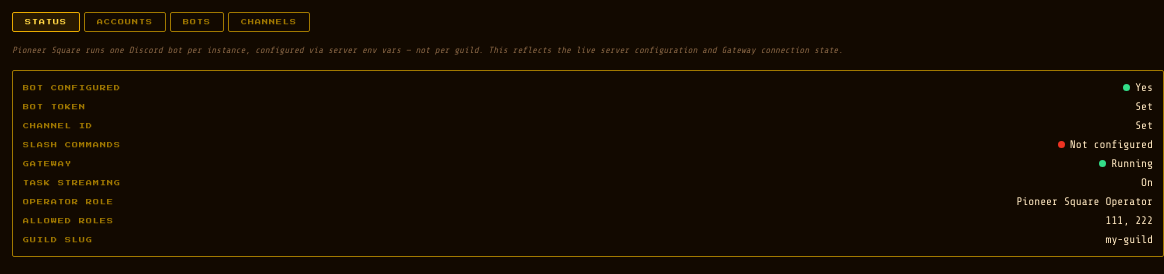
Scenario: GuildDiscordSettings › lists auto-provisioned bots read-only
Click the button with class "foreman-tool-tab" showing "Bots" at (197, 22), box [170,12,224,32]
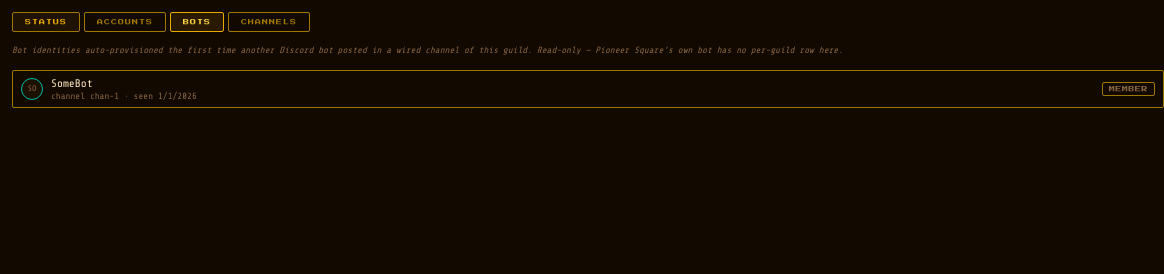
Expected: the text "SomeBot" is shown, [51,77,93,90]
